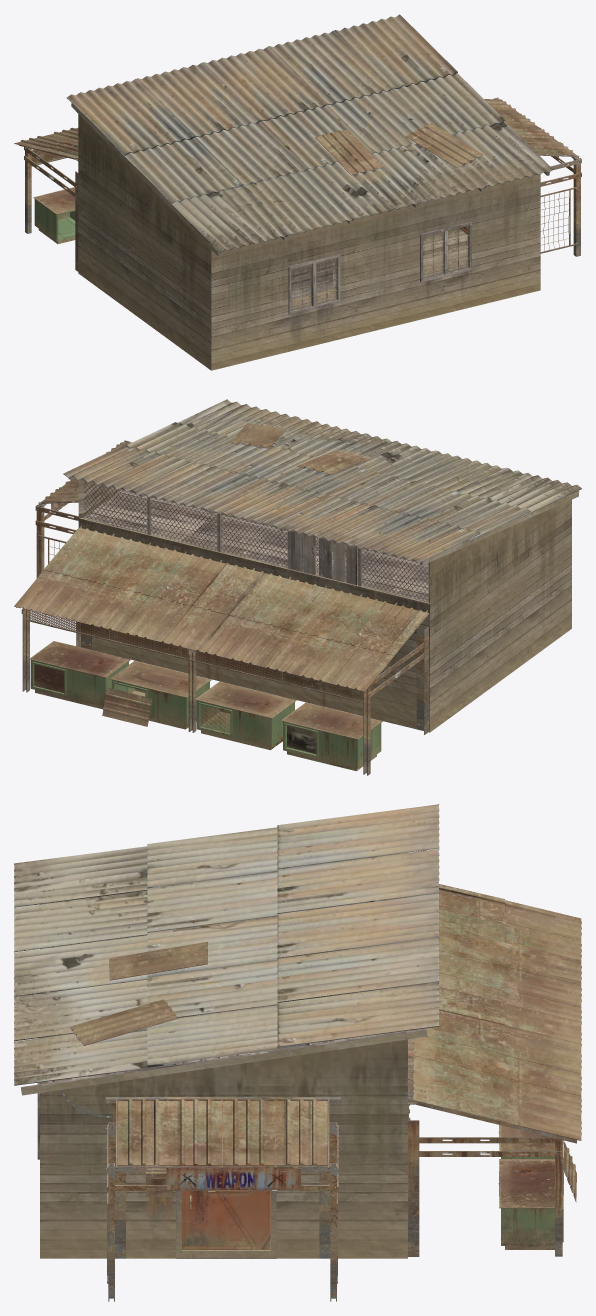
The model's file is shop.glb.
The picture shows the model from 3 angles, top to bottom: view 1: azimuth 30°, elevation 25°; view 2: azimuth 150°, elevation 25°; view 3: azimuth 270°, elevation 25°; orthographic projection. The views are drawn at different scales.
Visible parts, largest first — view 1: Roof_Roof_0, Wall_Wall_0, Woods_Wood_0, Environments_Environments_0, Irons_Irons_0, Glass_glass_0; view 2: Roof_Roof_0, Wall_Wall_0, Environments_Environments_0, Woods_Wood_0, Tiles_Tiles_0, Irons_Irons_0; view 3: Roof_Roof_0, Wall_Wall_0, Environments_Environments_0, Irons_Irons_0, Woods_Wood_0.
Part boxes in pixels (box(x1,y1,x2,y2)): Roof_Roof_0: box(14, 14, 576, 252); Wall_Wall_0: box(78, 114, 540, 370); Woods_Wood_0: box(71, 103, 549, 314); Environments_Environments_0: box(31, 150, 569, 308); Irons_Irons_0: box(19, 97, 581, 271); Glass_glass_0: box(291, 225, 468, 310); Roof_Roof_0: box(14, 399, 581, 726); Wall_Wall_0: box(78, 479, 571, 732); Environments_Environments_0: box(29, 501, 382, 771); Woods_Wood_0: box(68, 476, 579, 601); Tiles_Tiles_0: box(29, 481, 428, 733); Irons_Irons_0: box(16, 440, 429, 775); Roof_Roof_0: box(14, 804, 581, 1202); Wall_Wall_0: box(40, 853, 407, 1258); Environments_Environments_0: box(60, 1090, 563, 1249); Irons_Irons_0: box(105, 896, 577, 1301); Woods_Wood_0: box(21, 806, 427, 1258).
Bounding box in the file's own units: 24.12 × 9.87 × 21.6.
Materials: 7 (7 with a texture image).
